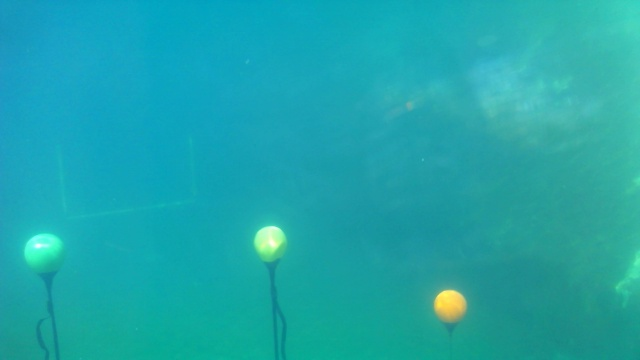buoy_green: (23, 232, 66, 284)
buoy_red: (433, 290, 467, 330)
channel: (55, 138, 200, 217)
